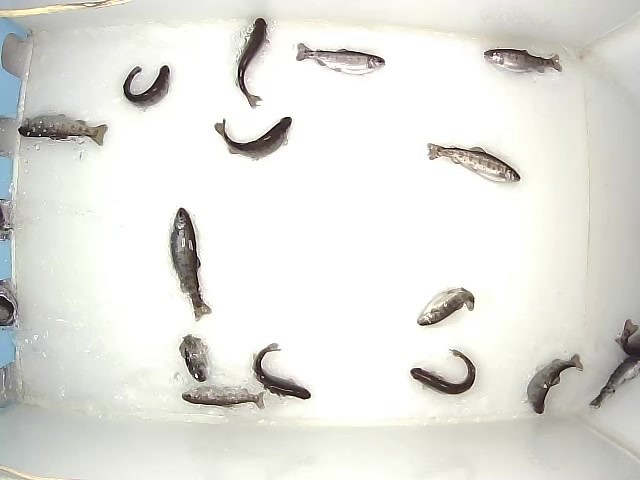fish: (169, 206, 213, 323), (426, 142, 522, 185), (525, 353, 585, 417), (213, 115, 294, 162), (251, 342, 312, 402), (17, 110, 109, 148), (235, 16, 271, 110), (409, 348, 476, 396), (295, 42, 386, 76), (588, 352, 640, 411), (415, 285, 475, 328), (482, 47, 564, 78), (122, 63, 174, 110), (181, 383, 266, 411), (177, 332, 209, 383)
